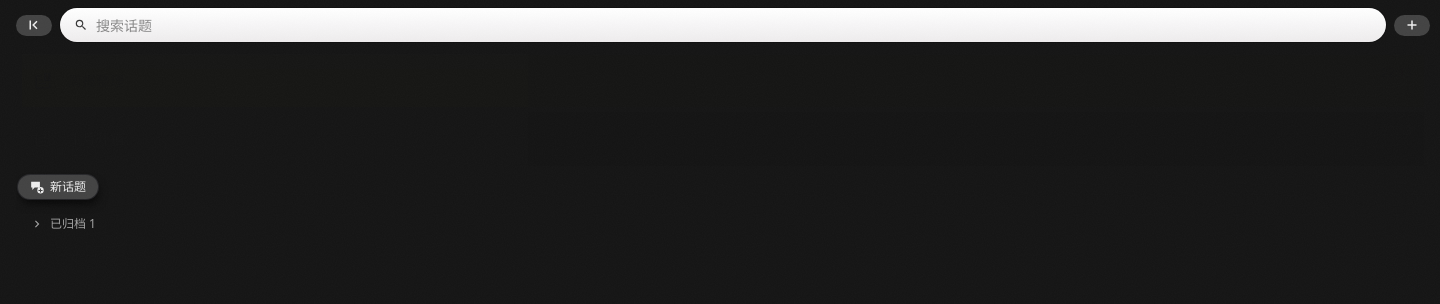
Test: archived topics and a search › without a search the 已归档 button folds them
This screenshot has width=1440, height=304.
Expected: the text "旧版协议的问题" is not shown
Click the button "已归档 1" at (63, 224), box [18,212,108,236]
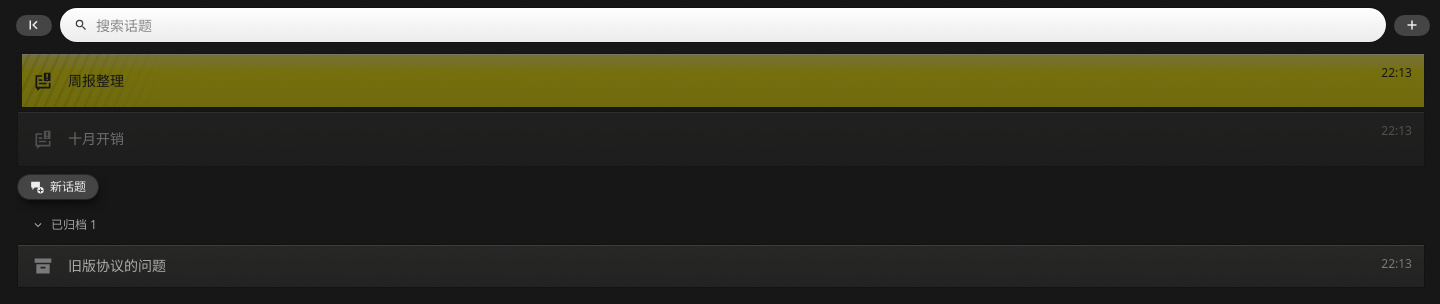
Expected: the text "旧版协议的问题" is shown, [68,256,166,275]
